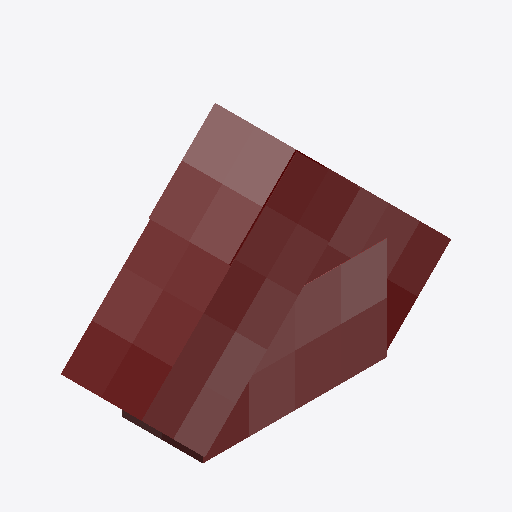
A Minecraft block model of 3 cuboids, rendered isometrically (azimuth 45°, elevation 35.3°) with the resource pack's own textures.
Parts seen in each view (by area): element 2, element 1, element 3.
Boxes of the visible parts, box(x1,y1,x2,y2) form: element 2: box(61, 151, 359, 456); element 1: box(149, 103, 450, 349); element 3: box(122, 238, 386, 462).
Bounding box in the file's own units: 6.92 × 5.02 × 1.81.